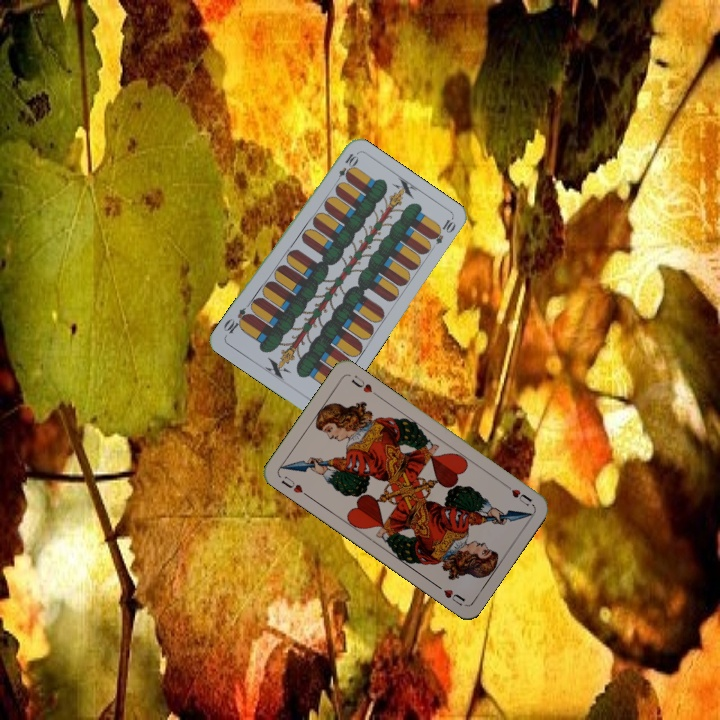E10: (331, 149, 360, 187)
HU: (500, 480, 535, 509), (277, 472, 311, 499)
